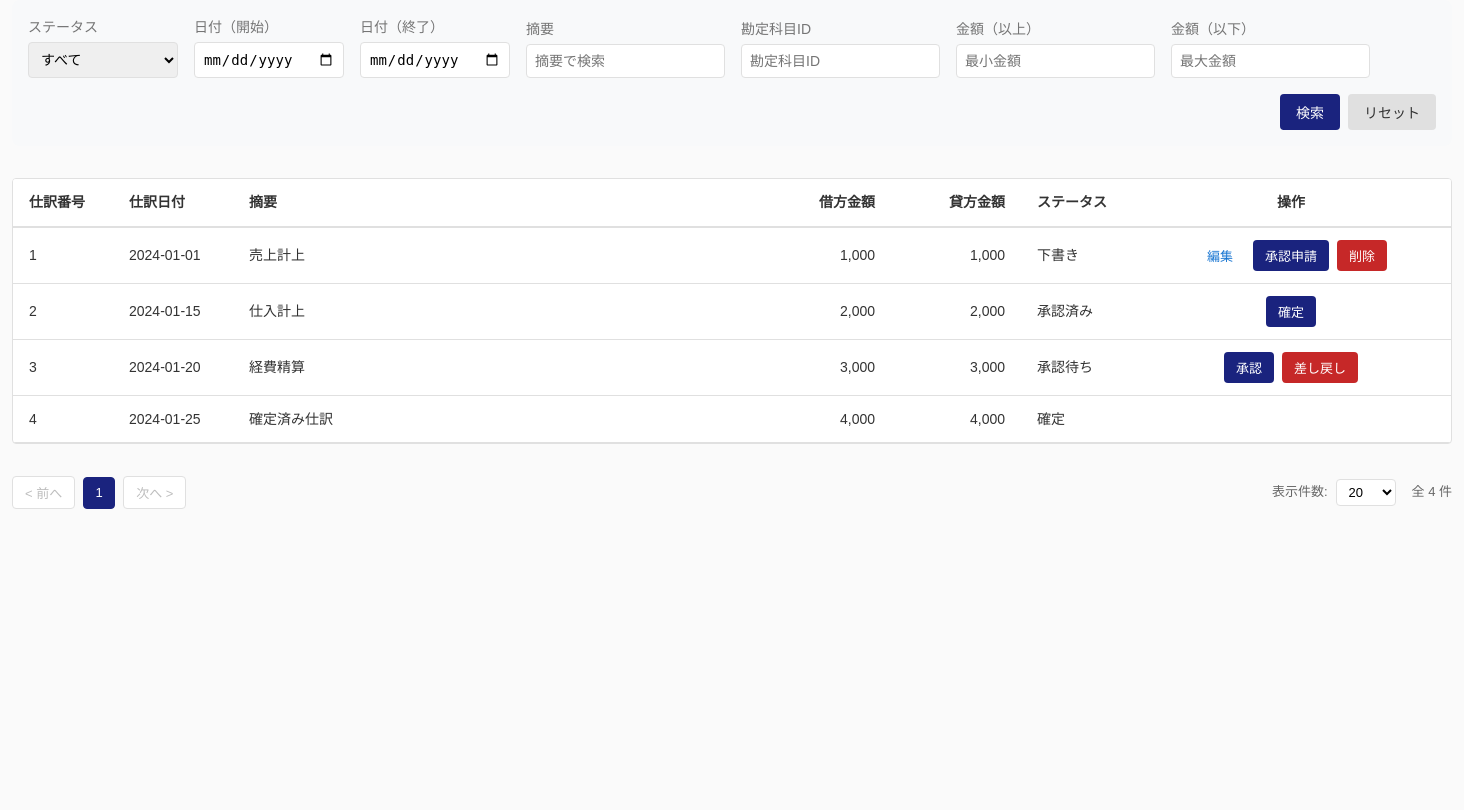
Test: JournalEntryList › 承認申請成功時に成功メッセージを表示する
Click the button "承認申請" at (1291, 255), box [1253,240,1329,271]
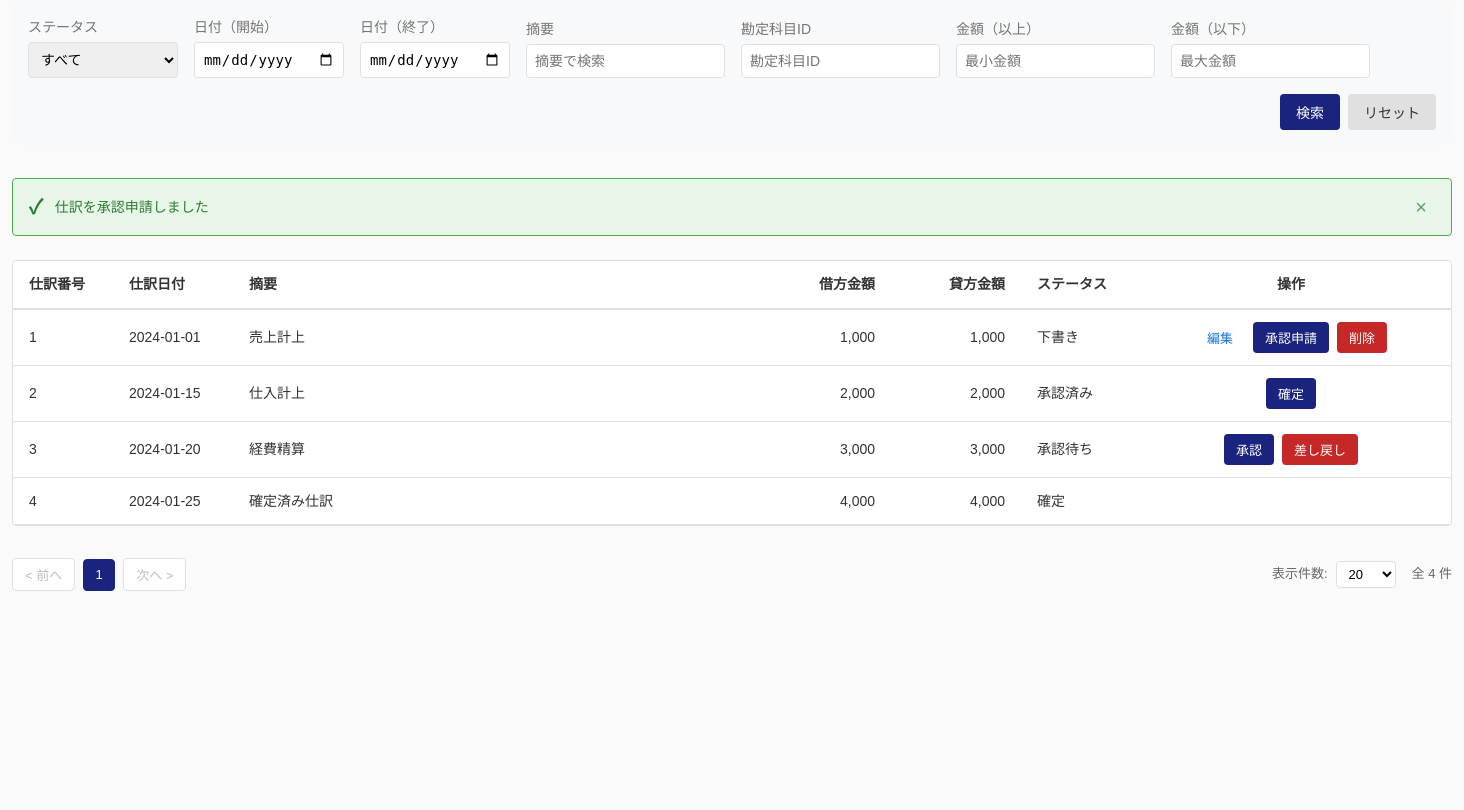
Check: the element with test id "success-notification" shows "仕訳を承認申請しました", box [55,199,209,215]
